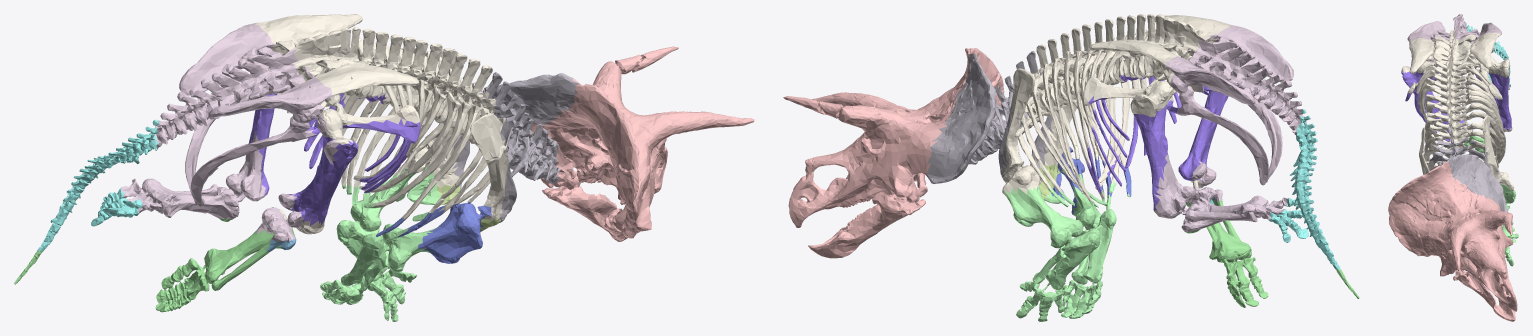
File: Triceratops_Chunks.fbx
3 renders of one model, left to right at view 1: azimuth 30°, elevation 25°; view 2: azimuth 150°, elevation 25°; view 3: azimuth 270°, elevation 25°, orthographic. The views are drawn at different scales.
Parts seen in each view (by area): view 1: CHUNK_Tri_Torso_Dorsal, CHUNK_Tri_Tail_Mid, CHUNK_Tri_Head, CHUNK_Tri_Foreleg_L, CHUNK_Tri_Neck, CHUNK_Tri_Pelvis, CHUNK_Tri_Hindleg_L, CHUNK_Tri_Tail_Tip, CHUNK_Tri_Foreleg_R; view 2: CHUNK_Tri_Torso_Dorsal, CHUNK_Tri_Head, CHUNK_Tri_Tail_Mid, CHUNK_Tri_Foreleg_L, CHUNK_Tri_Neck, CHUNK_Tri_Pelvis, CHUNK_Tri_Tail_Tip, CHUNK_Tri_Hindleg_L, CHUNK_Tri_Foreleg_R; view 3: CHUNK_Tri_Head, CHUNK_Tri_Torso_Dorsal, CHUNK_Tri_Neck, CHUNK_Tri_Pelvis, CHUNK_Tri_Tail_Mid, CHUNK_Tri_Foreleg_L, CHUNK_Tri_Tail_Tip, CHUNK_Tri_Hindleg_L.
Part boxes in pixels (x1=…): CHUNK_Tri_Torso_Dorsal: x1=255, y1=14, x2=508, y2=234; CHUNK_Tri_Tail_Mid: x1=121, y1=22, x2=339, y2=241; CHUNK_Tri_Head: x1=531, y1=46, x2=754, y2=241; CHUNK_Tri_Foreleg_L: x1=320, y1=166, x2=441, y2=321; CHUNK_Tri_Neck: x1=452, y1=67, x2=578, y2=222; CHUNK_Tri_Pelvis: x1=248, y1=93, x2=420, y2=225; CHUNK_Tri_Hindleg_L: x1=14, y1=217, x2=295, y2=312; CHUNK_Tri_Tail_Tip: x1=37, y1=119, x2=159, y2=251; CHUNK_Tri_Foreleg_R: x1=376, y1=202, x2=491, y2=263; CHUNK_Tri_Torso_Dorsal: x1=1002, y1=14, x2=1231, y2=214; CHUNK_Tri_Head: x1=783, y1=48, x2=1004, y2=258; CHUNK_Tri_Tail_Mid: x1=1154, y1=25, x2=1303, y2=231; CHUNK_Tri_Foreleg_L: x1=1004, y1=169, x2=1130, y2=321; CHUNK_Tri_Neck: x1=926, y1=45, x2=1052, y2=183; CHUNK_Tri_Pelvis: x1=1086, y1=74, x2=1228, y2=210; CHUNK_Tri_Tail_Tip: x1=1268, y1=109, x2=1340, y2=269; CHUNK_Tri_Hindleg_L: x1=1185, y1=198, x2=1359, y2=307; CHUNK_Tri_Foreleg_R: x1=1051, y1=147, x2=1131, y2=214; CHUNK_Tri_Head: x1=1388, y1=161, x2=1517, y2=321; CHUNK_Tri_Torso_Dorsal: x1=1401, y1=30, x2=1514, y2=191; CHUNK_Tri_Neck: x1=1427, y1=120, x2=1507, y2=212; CHUNK_Tri_Pelvis: x1=1401, y1=70, x2=1511, y2=141; CHUNK_Tri_Tail_Mid: x1=1405, y1=14, x2=1512, y2=131; CHUNK_Tri_Foreleg_L: x1=1500, y1=184, x2=1518, y2=266; CHUNK_Tri_Tail_Tip: x1=1464, y1=22, x2=1510, y2=86; CHUNK_Tri_Hindleg_L: x1=1464, y1=89, x2=1509, y2=155.
Bounding box in the file's own units: 1.2 × 0.571 × 0.3385.
